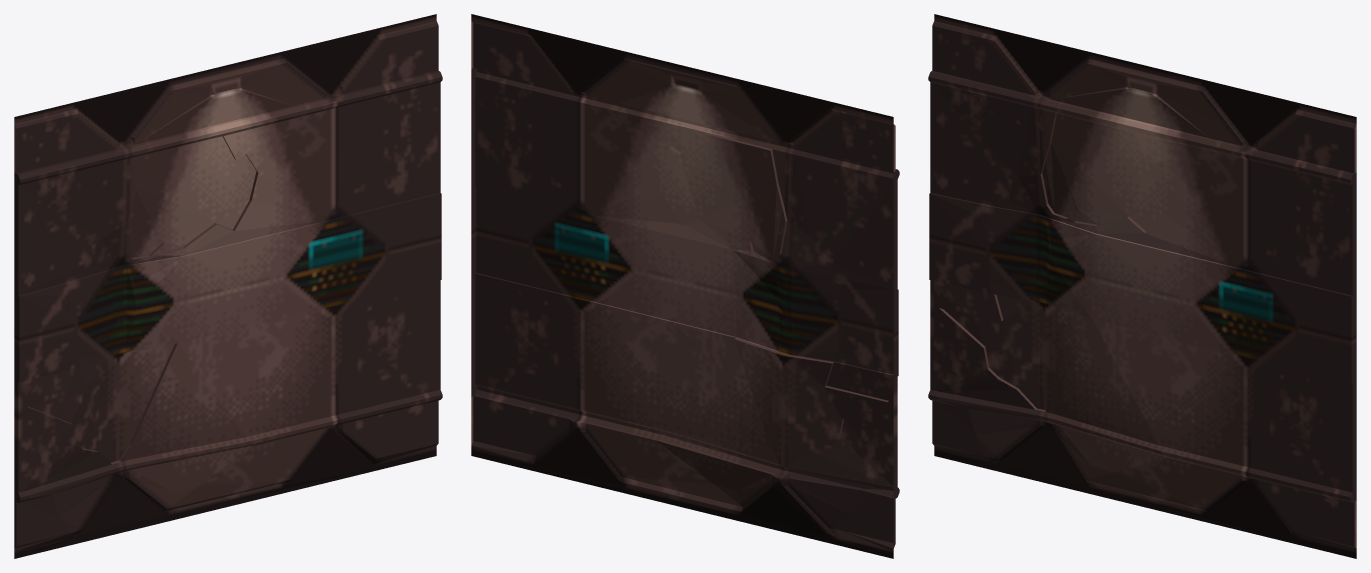
The model's file is eng2_3d.fbx.
3 renders of one model, left to right at view 1: azimuth 30°, elevation 25°; view 2: azimuth 150°, elevation 25°; view 3: azimuth 330°, elevation 25°, orthographic.
Parts seen in each view (by area): view 1: eng2_3d_mesh; view 2: eng2_3d_mesh; view 3: eng2_3d_mesh.
Boxes of the visible parts, x1,y1,x2,y2 form: eng2_3d_mesh: (14,14,442,558); eng2_3d_mesh: (471,14,899,558); eng2_3d_mesh: (928,14,1356,558).
Size of the model in its own units: 256 by 256 by 12.41.
